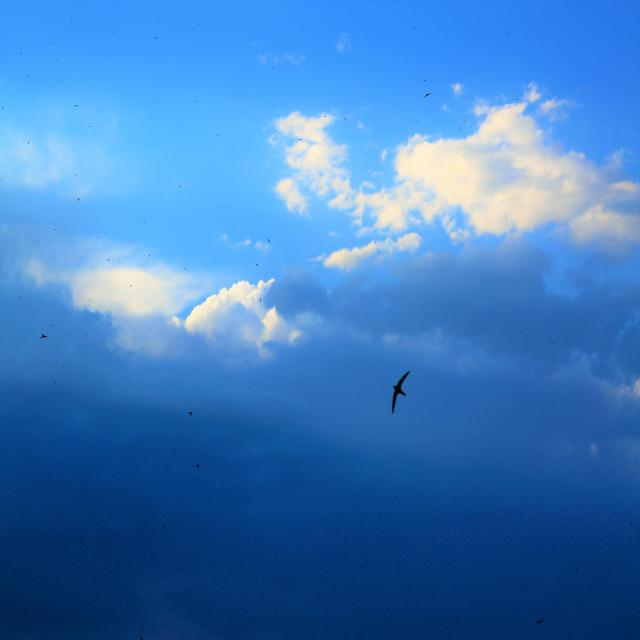bird: (390, 369, 412, 415), (39, 332, 48, 340), (536, 617, 544, 626), (423, 92, 432, 98), (322, 114, 328, 120), (343, 116, 347, 124), (51, 322, 56, 328), (52, 226, 57, 232), (110, 28, 115, 34), (412, 25, 417, 31), (73, 104, 80, 108), (298, 136, 302, 143), (270, 66, 275, 71), (188, 411, 192, 417), (26, 73, 30, 79), (56, 58, 60, 63), (51, 42, 56, 46), (255, 262, 258, 268), (259, 297, 262, 303), (195, 464, 199, 468), (19, 52, 23, 56), (154, 36, 158, 40), (77, 197, 80, 202), (74, 174, 79, 177), (423, 79, 426, 84), (18, 294, 20, 301), (107, 258, 110, 262), (46, 149, 50, 152), (88, 125, 92, 128), (416, 121, 419, 125), (463, 120, 466, 124), (198, 407, 200, 413), (268, 238, 270, 243), (2, 106, 4, 111), (180, 184, 182, 189), (148, 254, 151, 257), (70, 20, 73, 23), (130, 284, 132, 288), (55, 382, 57, 386), (507, 32, 509, 36), (458, 127, 461, 129), (223, 206, 225, 209), (216, 134, 218, 137), (150, 327, 152, 330), (187, 427, 190, 429), (85, 334, 88, 336), (95, 318, 98, 320), (62, 365, 64, 368), (51, 392, 54, 394), (97, 236, 99, 239), (28, 141, 30, 144), (262, 52, 265, 54), (516, 98, 518, 100), (472, 340, 474, 342), (176, 140, 178, 142), (143, 222, 145, 224), (184, 268, 186, 270), (110, 324, 112, 326), (60, 80, 62, 82), (195, 101, 197, 103), (472, 343, 473, 346), (198, 24, 200, 25)
